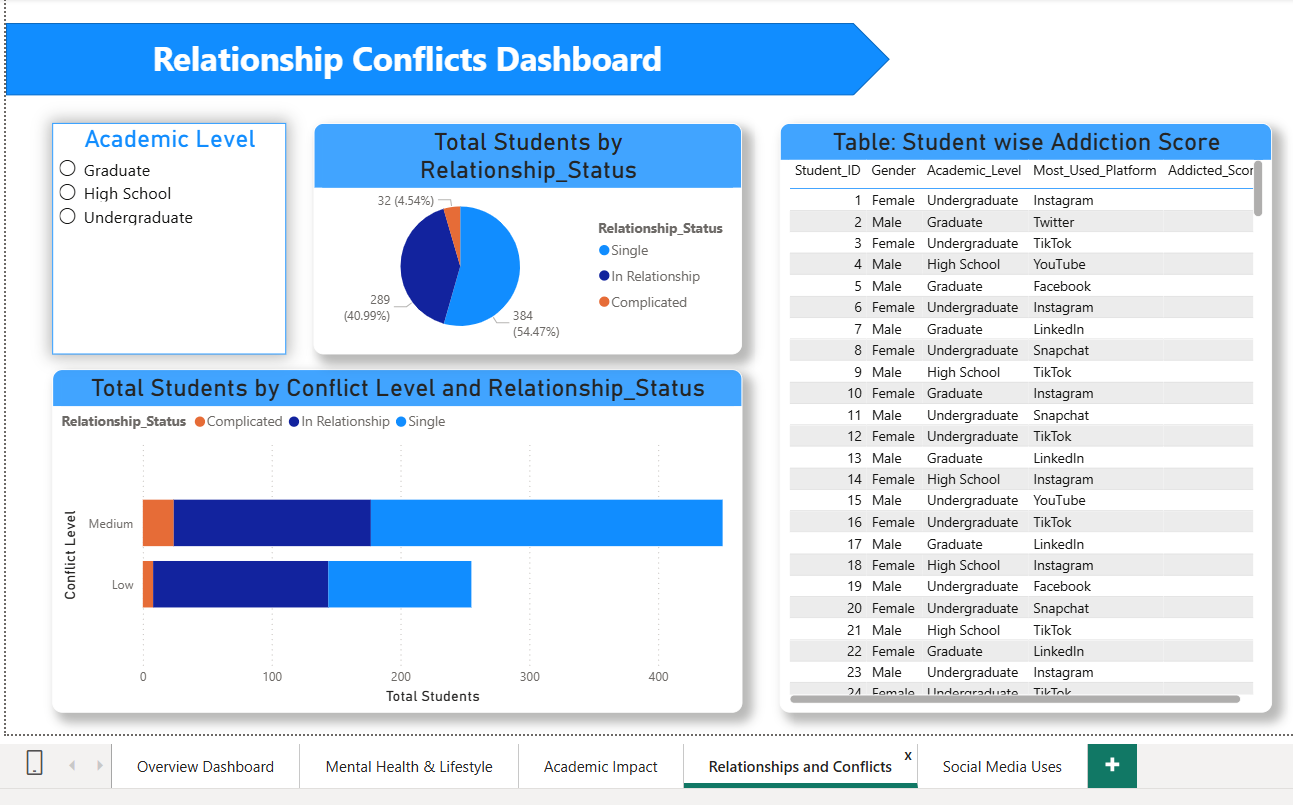

This screenshot's page, from the dashboard's own definition file:
{"tool":"powerbi","page":{"name":" Relationships and Conflicts","canvas":[1280,720],"ordinal":3},"visuals":[{"type":"barChart","fields":{"Category":["Student Details.Conflict Leve"],"Y":["Student Details.Total Students"],"Series":["Student Details.Relationship_Status"]},"box":[45.2,363.2,675,336.3],"z":0},{"type":"tableEx","title":"Table: Student wise Addiction Score","fields":{"Values":["Student Details.Student_ID","Student Details.Gender","Student Details.Academic_Level","Platform Details.Most_Used_Platform","Student Details.Addicted_Score"]},"box":[756.9,122.3,481.8,577.2],"z":1000},{"type":"pieChart","fields":{"Category":["Student Details.Relationship_Status"],"Y":["Student Details.Total Students"]},"box":[300.8,122.3,419.4,226.2],"z":2000},{"type":"shape","box":[0,24.5,864.5,70.9],"z":2001},{"type":"textbox","box":[129.6,31.8,605.3,63.6],"z":2002},{"type":"listSlicer","title":"Academic Level","fields":{"Values":["Student Details.Academic_Level"]},"box":[45.2,122.3,228.7,226.2],"z":2003}]}

Visuals, with their boxes on the page's 1280x720 design canvas (x1, y1, x2, y2). These are canvas units, not pixel positions in the 1293x805 screenshot, which may show the page scaled, cropped or inside an application window:
barChart - Student Details.Conflict Leve x Student Details.Total Students: bbox=(45, 363, 720, 700)
"Table: Student wise Addiction Score" tableEx: bbox=(757, 122, 1239, 700)
pieChart - Student Details.Relationship_Status x Student Details.Total Students: bbox=(301, 122, 720, 348)
shape: bbox=(0, 24, 864, 95)
textbox: bbox=(130, 32, 735, 95)
"Academic Level" listSlicer: bbox=(45, 122, 274, 348)
